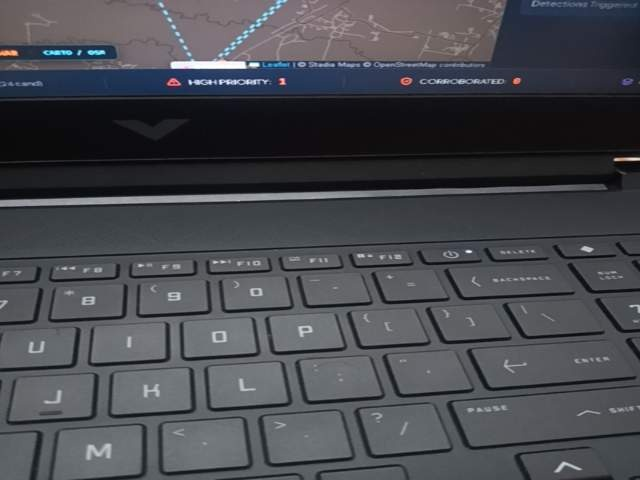pothole: (105, 200, 314, 414), (104, 403, 311, 480), (536, 403, 640, 480)
